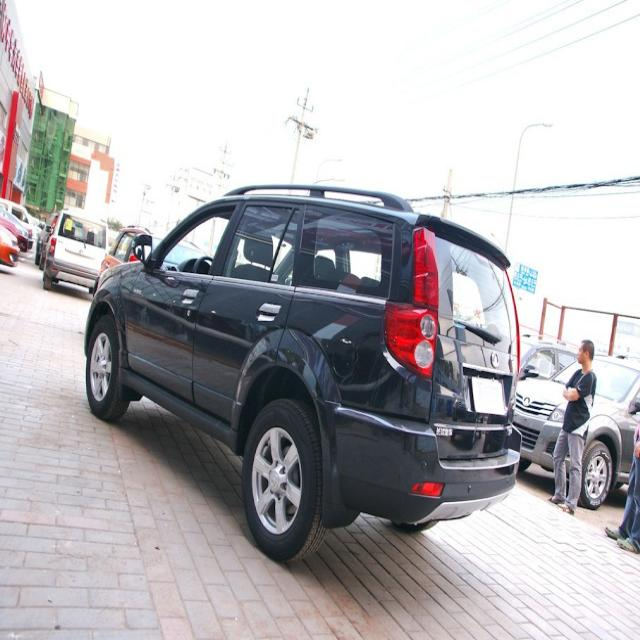back_glass: (430, 224, 519, 359)
back_left_side_light: (384, 224, 441, 383)
back_right_side_light: (505, 268, 523, 387)
door: (190, 204, 310, 412)
front_left_side_door: (118, 195, 246, 411)
front_left_side_mirror: (132, 230, 156, 270)
rear_bumper: (314, 392, 524, 526)
wheel: (242, 397, 328, 564), (85, 315, 128, 421)
